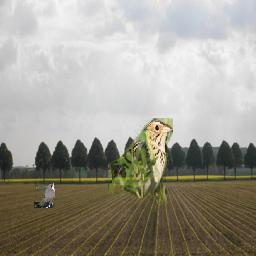Cuckoo: (35, 182, 56, 209)
Sparrow: (109, 119, 174, 206)
